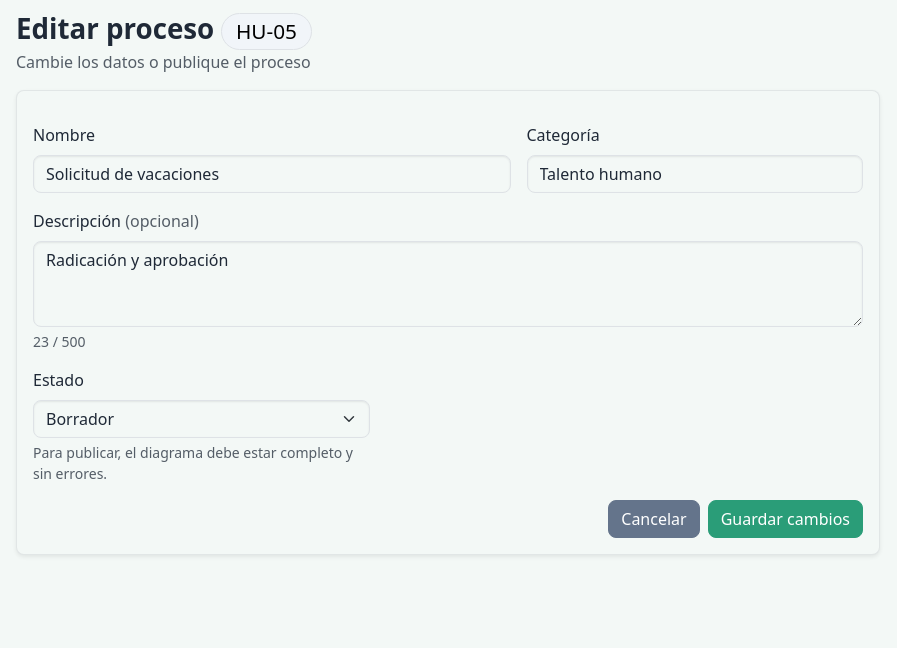
ProcesoFormComponent (HU-04, HU-05) › editar: otro usuario guardó antes (conflicto de versión)
Click the button with id "guardarProcesoBtn". click: click(785, 519)
box: x1=708 y1=500 x2=863 y2=538
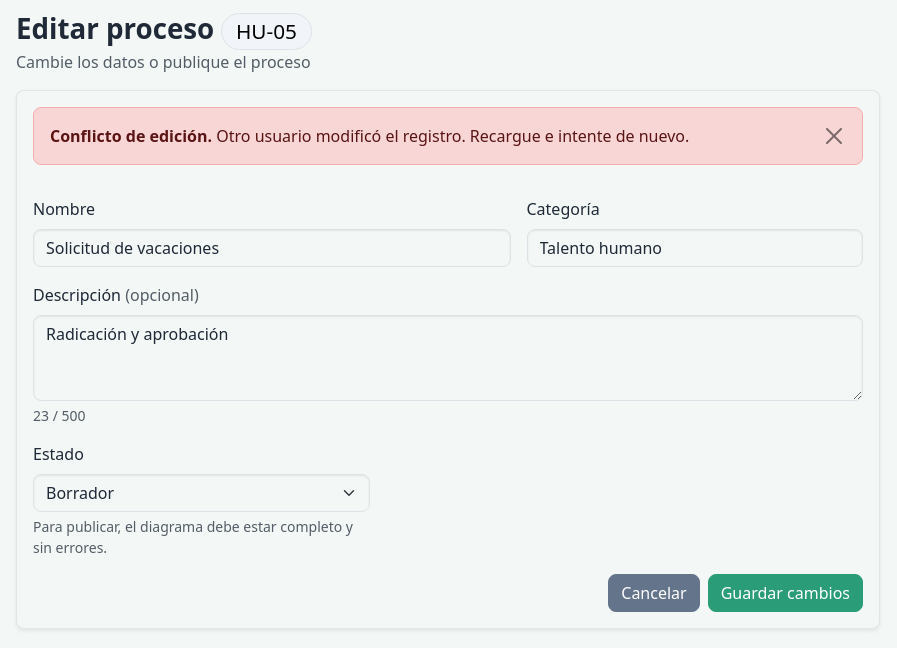
Check: the text "Otro usuario modificó el registro" is shown, box x1=212 y1=125 x2=689 y2=147
